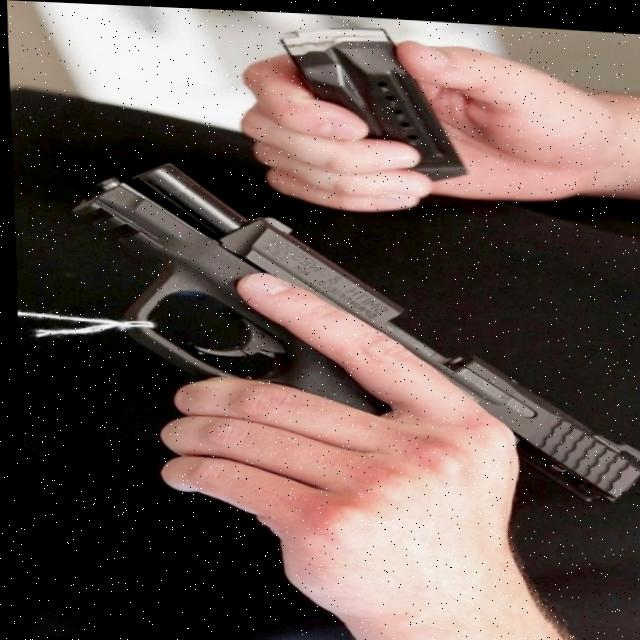pistol: (54, 153, 640, 501)
